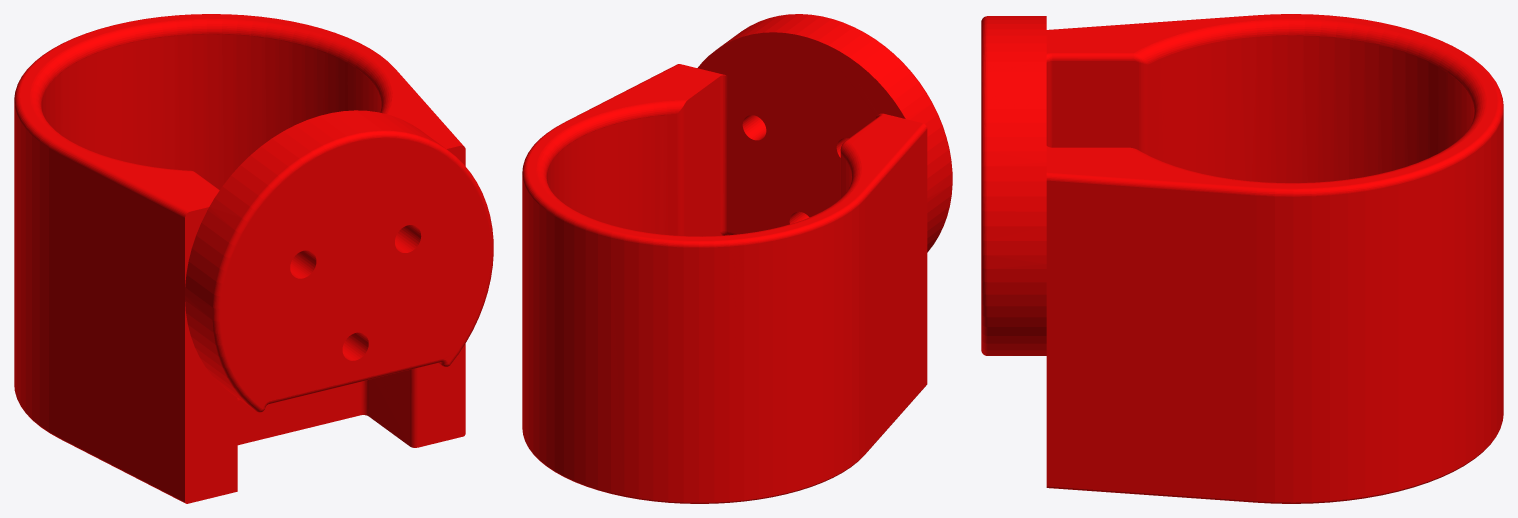
The model's file is left_arm_2_hand_1_wrist_1.glb.
3 views of the same model, side by side, from view 1: azimuth 30°, elevation 25°; view 2: azimuth 150°, elevation 25°; view 3: azimuth 270°, elevation 25° (orthographic). The views are drawn at different scales.
Parts seen in each view (by area): view 1: left_arm_2_hand_1_wrist_1.obj; view 2: left_arm_2_hand_1_wrist_1.obj; view 3: left_arm_2_hand_1_wrist_1.obj.
Boxes of the visible parts, <box> form: left_arm_2_hand_1_wrist_1.obj: <box>14,14,493,503</box>; left_arm_2_hand_1_wrist_1.obj: <box>522,14,952,503</box>; left_arm_2_hand_1_wrist_1.obj: <box>981,14,1503,503</box>.
Bounding box in the file's own units: 0.065 × 0.0647 × 0.08.
